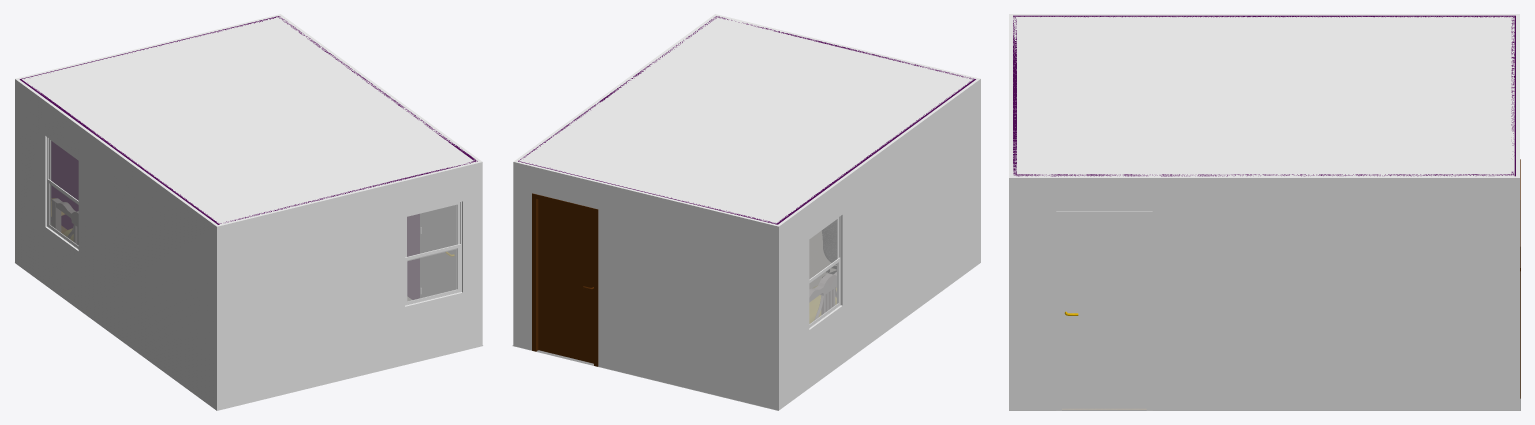
Rendered from beccaroom.obj.
The picture shows the model from 3 angles, left to right: view 1: azimuth 30°, elevation 25°; view 2: azimuth 150°, elevation 25°; view 3: azimuth 270°, elevation 25°; orthographic projection. The views are drawn at different scales.
Visible parts, largest first — view 1: room_5_27, wall_3_16, wall_4_22, sweethome3d_opening_on_hinge_1_door_36, sweethome3d_window_pane_on_rail_1_57, sweethome3d_window_pane_54, wall_1_5, sweethome3d_window_pane_on_rail_1_51, sweethome3d_window_pane_48, wall_2_11, sweethome3d_opening_on_rail_1_56, frame_53 (+8 smaller); view 2: room_5_27, wall_1_4, wall_4_22, sweethome3d_opening_on_hinge_1_door_45, frame_37, sweethome3d_window_pane_on_rail_1_51, sweethome3d_window_pane_48, room_5_26, wall_4_24, wall_2_12, wall_4_25, frame_47 (+5 smaller); view 3: wall_2_10, room_5_27, sweethome3d_opening_on_hinge_1_door_36, frame_28, wall_4_25, wall_4_24, wall_2_12, wall_2_13, ground_1, wall_1_6, wall_3_18, wall_3_19 (+1 smaller).
Part boxes in pixels (left/top/right/bottom): room_5_27: left=22, top=16, right=479, bottom=224; wall_3_16: left=217, top=162, right=482, bottom=410; wall_4_22: left=15, top=79, right=216, bottom=410; sweethome3d_opening_on_hinge_1_door_36: left=422, top=205, right=455, bottom=297; sweethome3d_window_pane_on_rail_1_57: left=407, top=248, right=457, bottom=301; sweethome3d_window_pane_54: left=407, top=204, right=457, bottom=256; wall_1_5: left=51, top=141, right=78, bottom=229; sweethome3d_window_pane_on_rail_1_51: left=49, top=184, right=78, bottom=245; sweethome3d_window_pane_48: left=50, top=141, right=78, bottom=200; wall_2_11: left=407, top=214, right=419, bottom=299; sweethome3d_opening_on_rail_1_56: left=405, top=244, right=460, bottom=305; frame_53: left=404, top=197, right=463, bottom=307; room_5_27: left=517, top=15, right=974, bottom=223; wall_1_4: left=513, top=162, right=778, bottom=410; wall_4_22: left=779, top=79, right=980, bottom=410; sweethome3d_opening_on_hinge_1_door_45: left=538, top=199, right=593, bottom=363; frame_37: left=532, top=193, right=598, bottom=366; sweethome3d_window_pane_on_rail_1_51: left=809, top=262, right=838, bottom=324; sweethome3d_window_pane_48: left=809, top=219, right=837, bottom=279; room_5_26: left=809, top=231, right=836, bottom=288; wall_4_24: left=778, top=79, right=979, bottom=226; wall_2_12: left=514, top=14, right=715, bottom=161; wall_4_25: left=777, top=79, right=975, bottom=224; frame_47: left=809, top=210, right=842, bottom=330; wall_2_10: left=1009, top=178, right=1519, bottom=410; room_5_27: left=1011, top=16, right=1514, bottom=177; sweethome3d_opening_on_hinge_1_door_36: left=1062, top=217, right=1146, bottom=408; frame_28: left=1056, top=211, right=1152, bottom=410; wall_4_25: left=1013, top=15, right=1515, bottom=17; wall_4_24: left=1009, top=14, right=1518, bottom=15; wall_2_12: left=1009, top=176, right=1519, bottom=177; wall_2_13: left=1014, top=174, right=1515, bottom=176; ground_1: left=1009, top=247, right=1520, bottom=410; wall_1_6: left=1516, top=14, right=1519, bottom=177; wall_3_18: left=1009, top=14, right=1012, bottom=177; wall_3_19: left=1013, top=16, right=1016, bottom=174.
Bounding box in the file's own units: 369 × 244 × 486.
30 materials, 2 textured.
